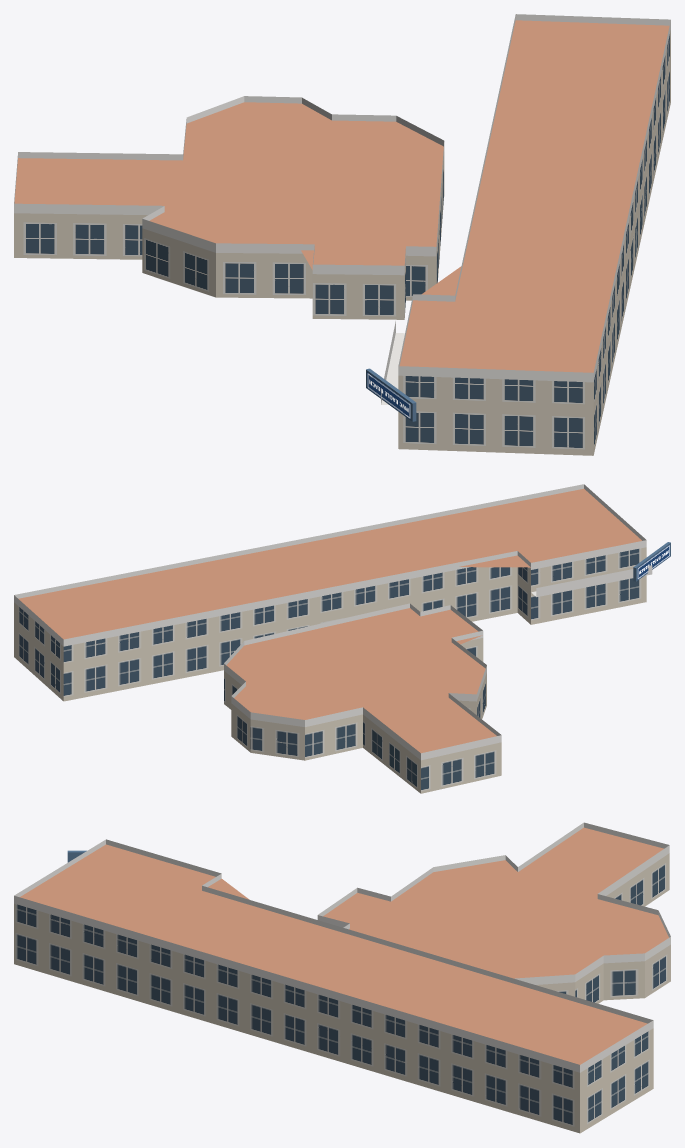
Rendered from mvceagle.glb.
3 renders of one model, top to bottom at view 1: azimuth 30°, elevation 25°; view 2: azimuth 150°, elevation 25°; view 3: azimuth 270°, elevation 25°, orthographic. The views are drawn at different scales.
Visible parts, largest first — view 1: mvceagle_lod0; view 2: mvceagle_lod0; view 3: mvceagle_lod0.
Boxes of the visible parts, x1,y1,x2,y2 form: mvceagle_lod0: (14, 14, 670, 455); mvceagle_lod0: (14, 484, 670, 793); mvceagle_lod0: (14, 822, 670, 1133).
Size of what is drawn, in the model's own units: 50.2 by 6.08 by 52.8.
5 materials, 2 textured.
